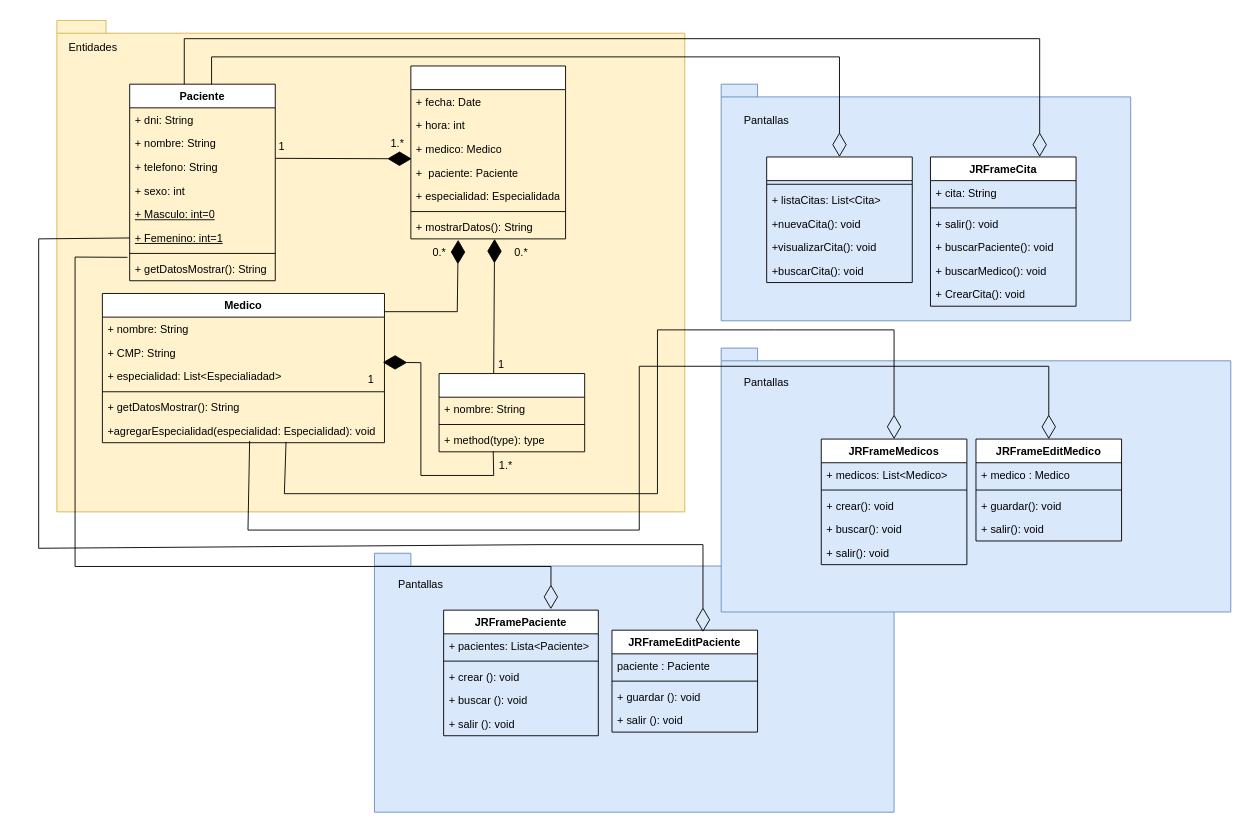
This 1247x828 diagram has some shape labels left out. The shapes that lost their labels are listed below. From the top down, each one's box as (x1, y1, x2, y2) in pixels, then its label:
(410, 65, 566, 239): Cita
(766, 156, 912, 283): JRFrameGestCita
(438, 373, 585, 452): Especialidad
